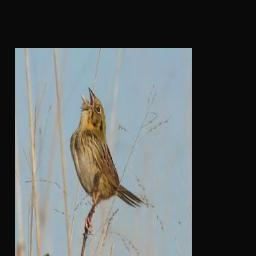Sparrow: (69, 86, 146, 234)
